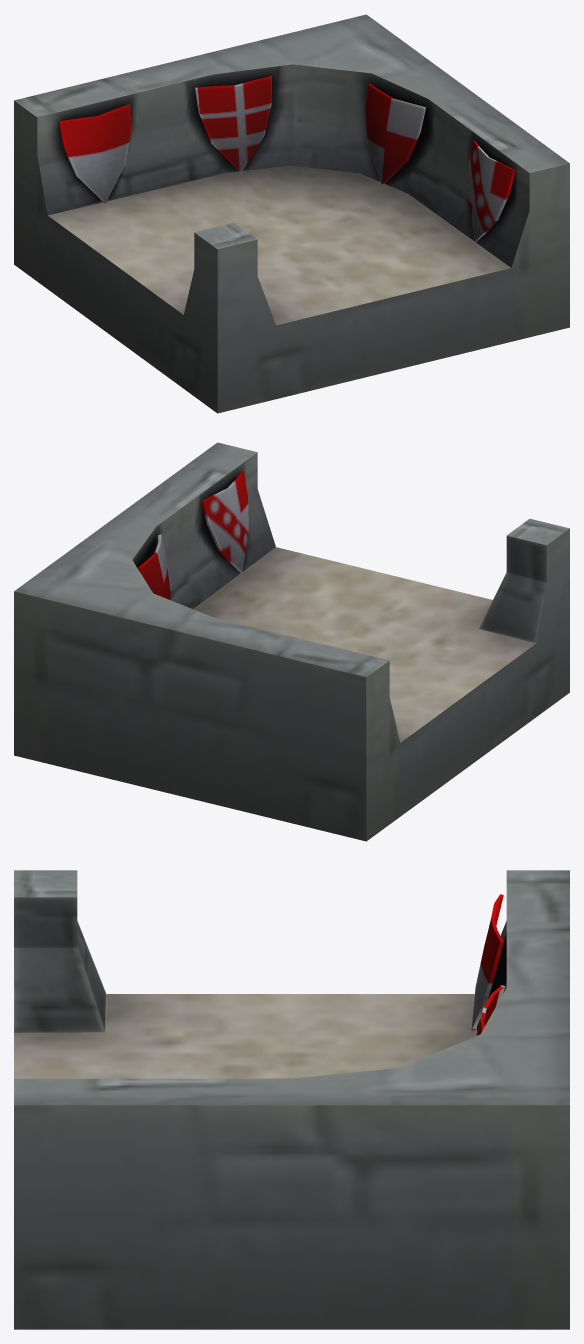
The model's file is med_tile_corner_static.obj.
3 renders of one model, top to bottom at view 1: azimuth 30°, elevation 25°; view 2: azimuth 150°, elevation 25°; view 3: azimuth 270°, elevation 25°, orthographic. The views are drawn at different scales.
Visible parts, largest first — view 1: tile_corner_static; view 2: tile_corner_static; view 3: tile_corner_static.
Boxes of the visible parts, x1,y1,x2,y2 form: tile_corner_static: (14,14,569,413); tile_corner_static: (14,442,569,841); tile_corner_static: (14,870,569,1329).
Size of the model in its own units: 1 by 0.445 by 1.
1 material, 1 textured.
